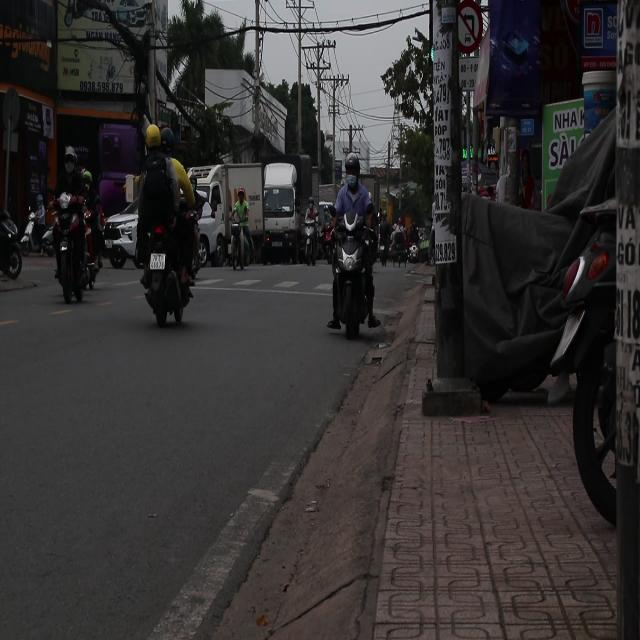car: (104, 199, 140, 268), (196, 205, 226, 269)
motorbike: (328, 190, 377, 348), (138, 204, 198, 325), (47, 193, 96, 304), (0, 205, 25, 283), (27, 196, 54, 255), (302, 205, 326, 266)
truck: (192, 158, 312, 265)
